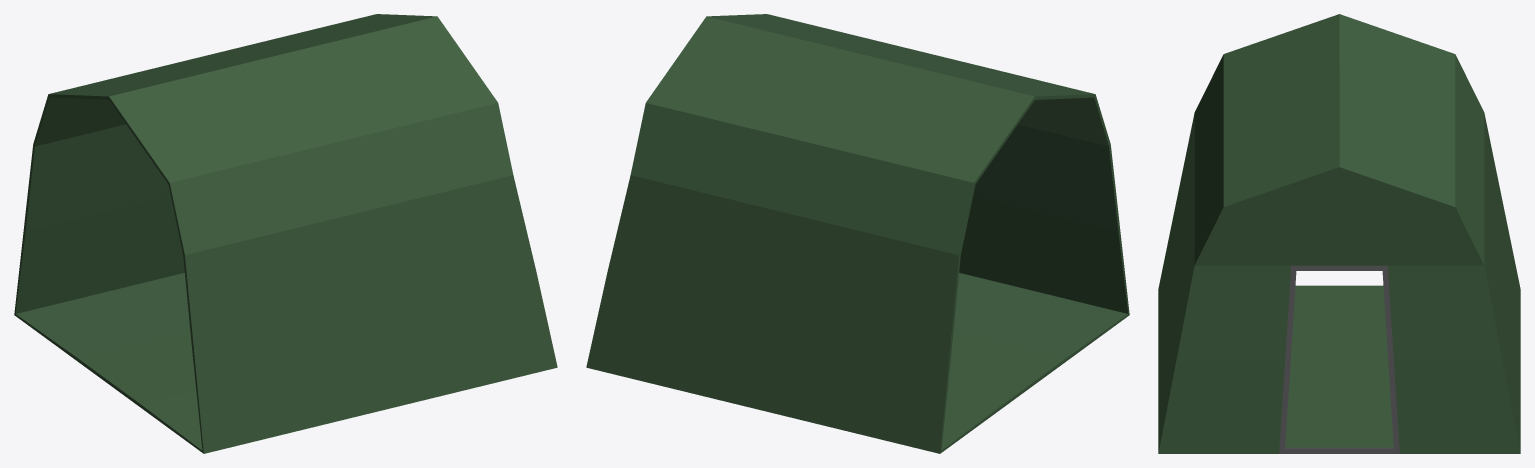
The picture shows the model from 3 angles, left to right: view 1: azimuth 30°, elevation 25°; view 2: azimuth 150°, elevation 25°; view 3: azimuth 270°, elevation 25°; orthographic projection. The views are drawn at different scales.
Visible parts, largest first — view 1: Plane; view 2: Plane; view 3: Plane.
Part boxes in pixels (x1,y1,x2,y2): Plane: (14,14,557,453); Plane: (586,14,1129,453); Plane: (1158,14,1520,453).
Bounding box in the file's own units: 2.15 × 2 × 1.68.
